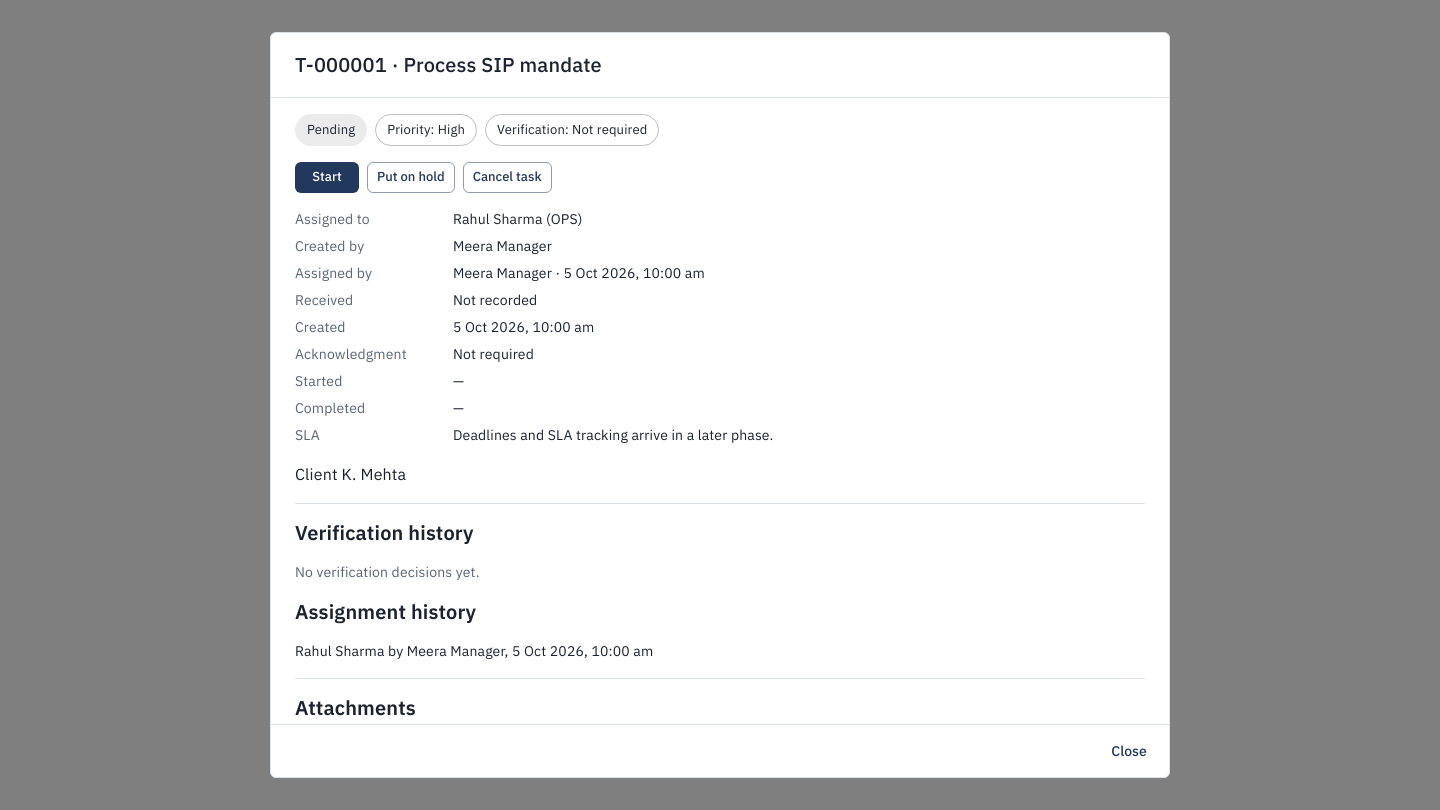
Test: Task detail › explains a 409 version conflict and reloads the task
The image size is (1440, 810).
Click the button "Start".
click(327, 177)  # box [295, 162, 359, 193]
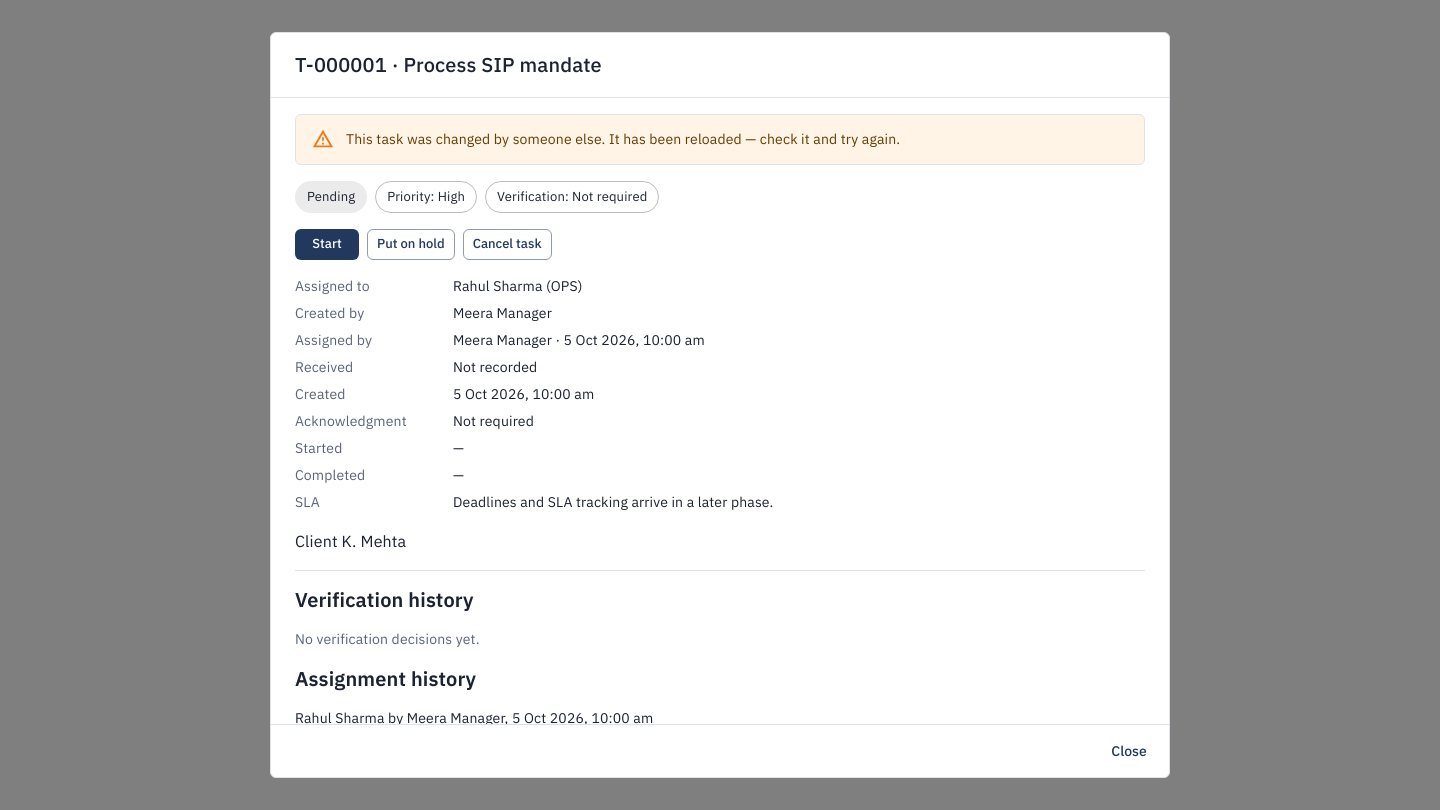
Expected: the message shows "changed by someone else. It has been reloaded", [346, 130, 900, 148]
